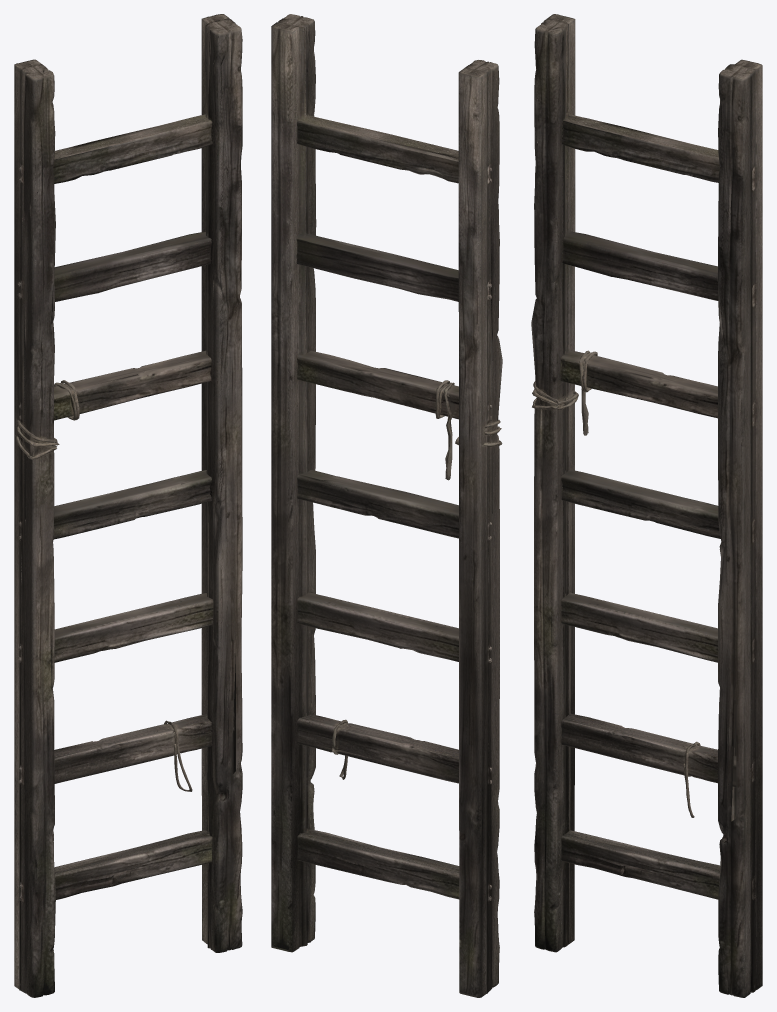
The model's file is Meshy_AI_Weathered_Ascent_20261114_texture.fbx.
3 views of the same model, side by side, from view 1: azimuth 30°, elevation 25°; view 2: azimuth 150°, elevation 25°; view 3: azimuth 330°, elevation 25° (orthographic).
Parts seen in each view (by area): view 1: Mesh_0; view 2: Mesh_0; view 3: Mesh_0.
Boxes of the visible parts, bbox=[...] form: Mesh_0: bbox=[14, 14, 242, 997]; Mesh_0: bbox=[271, 14, 502, 997]; Mesh_0: bbox=[531, 14, 762, 997].
Bounding box in the file's own units: 23.29 × 95.17 × 4.05.
1 material, 1 textured.
